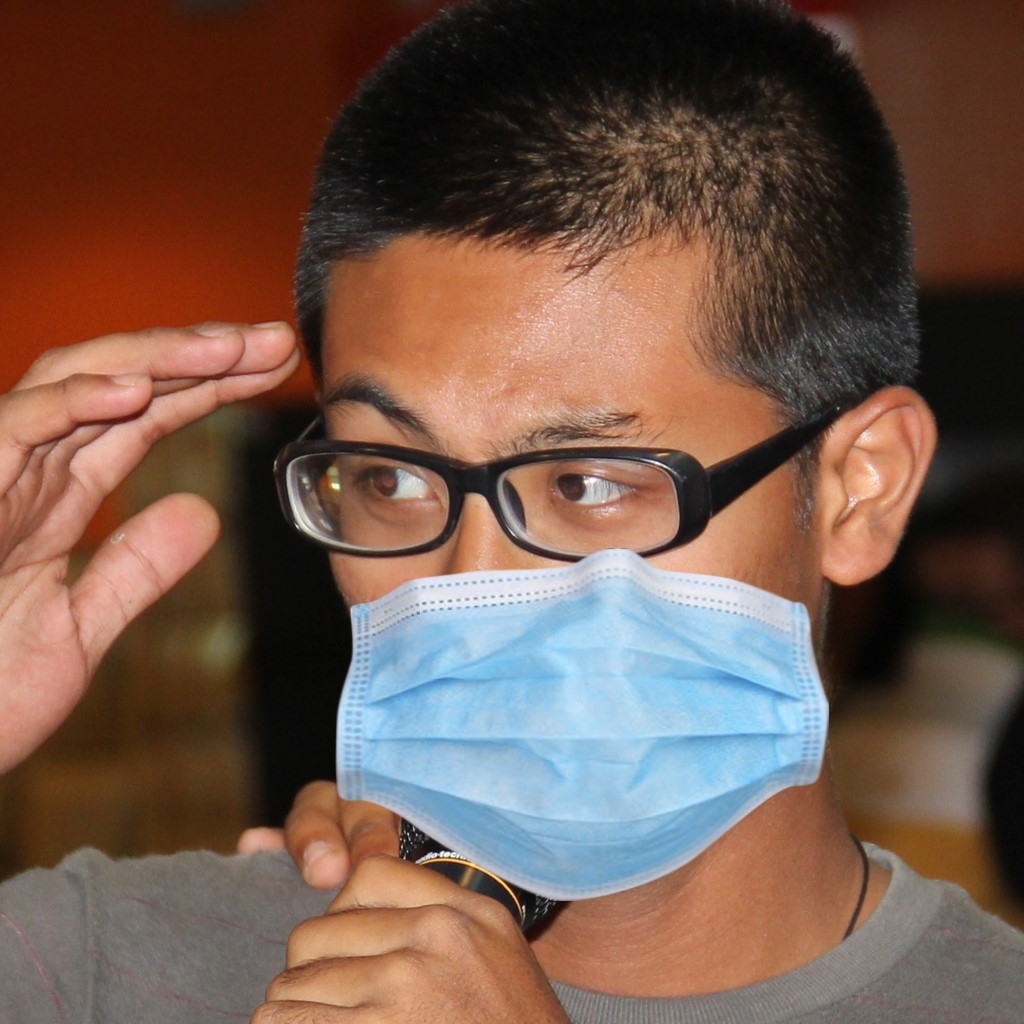con_mascara: (281, 90, 897, 862)
